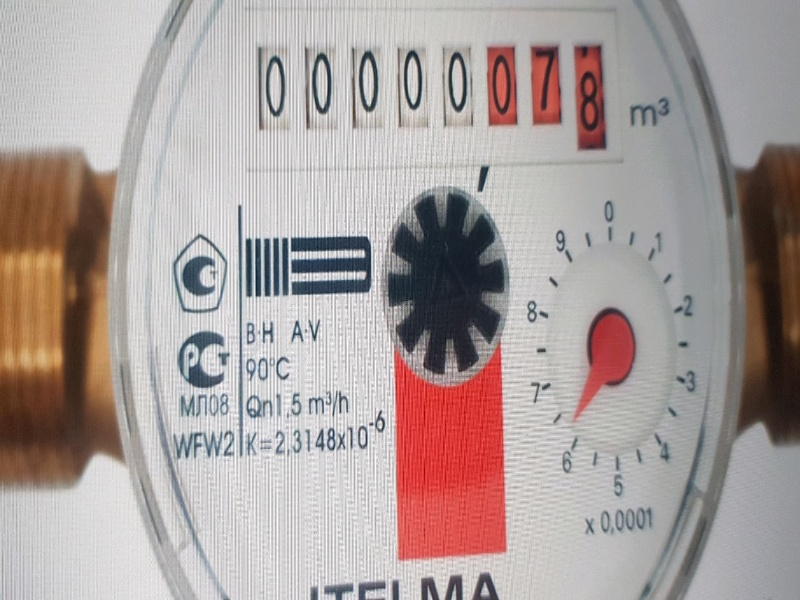meter: (246, 44, 624, 153)
